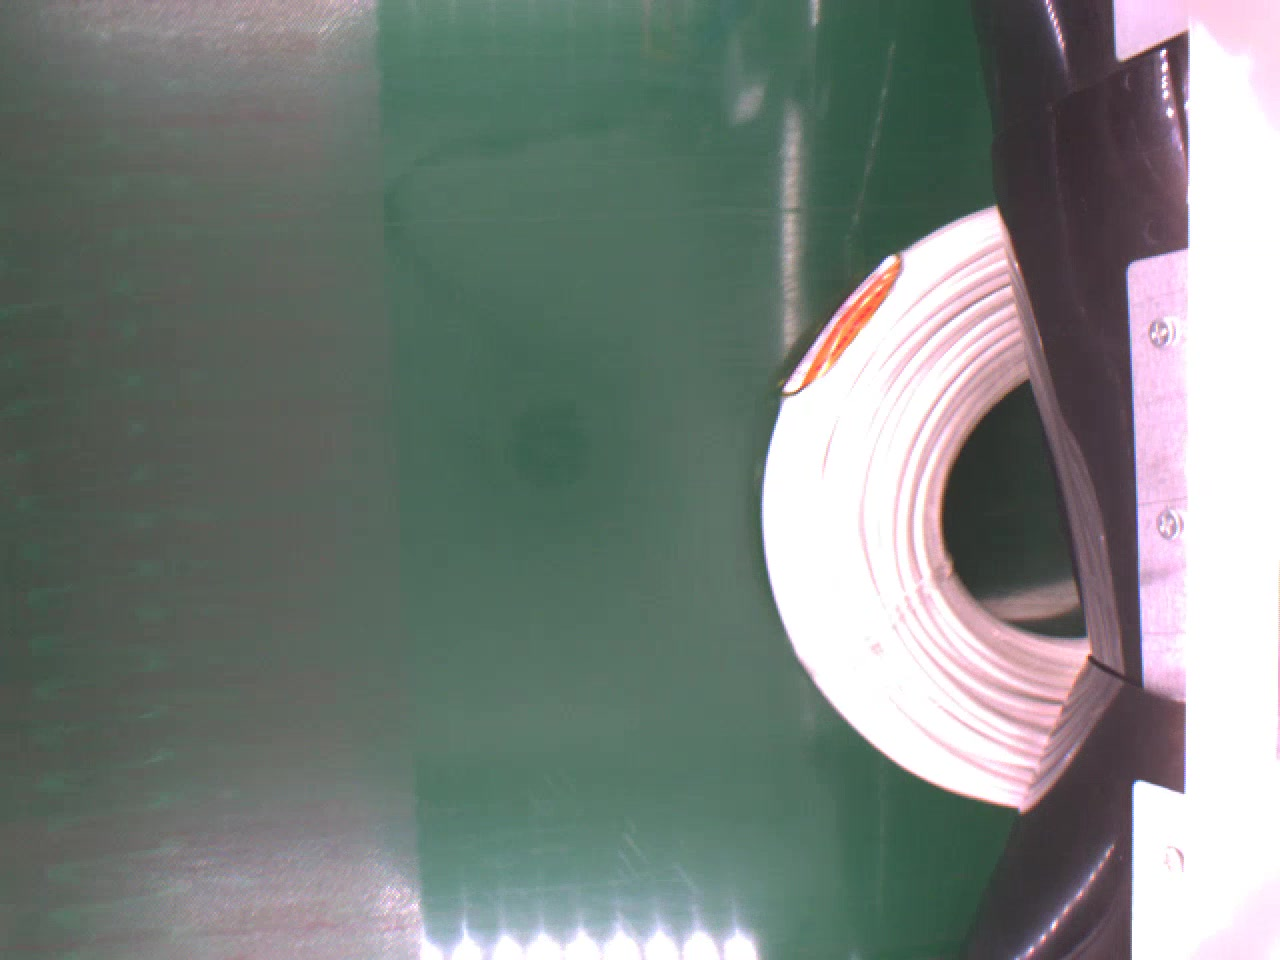white: (762, 201, 1094, 807)
